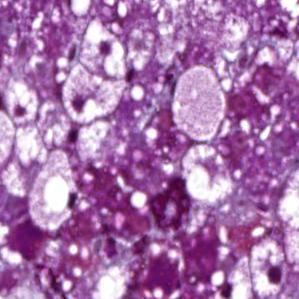ballooning: (25, 146, 80, 237), (60, 62, 129, 124), (74, 14, 134, 79), (179, 142, 234, 206), (248, 237, 292, 299)
